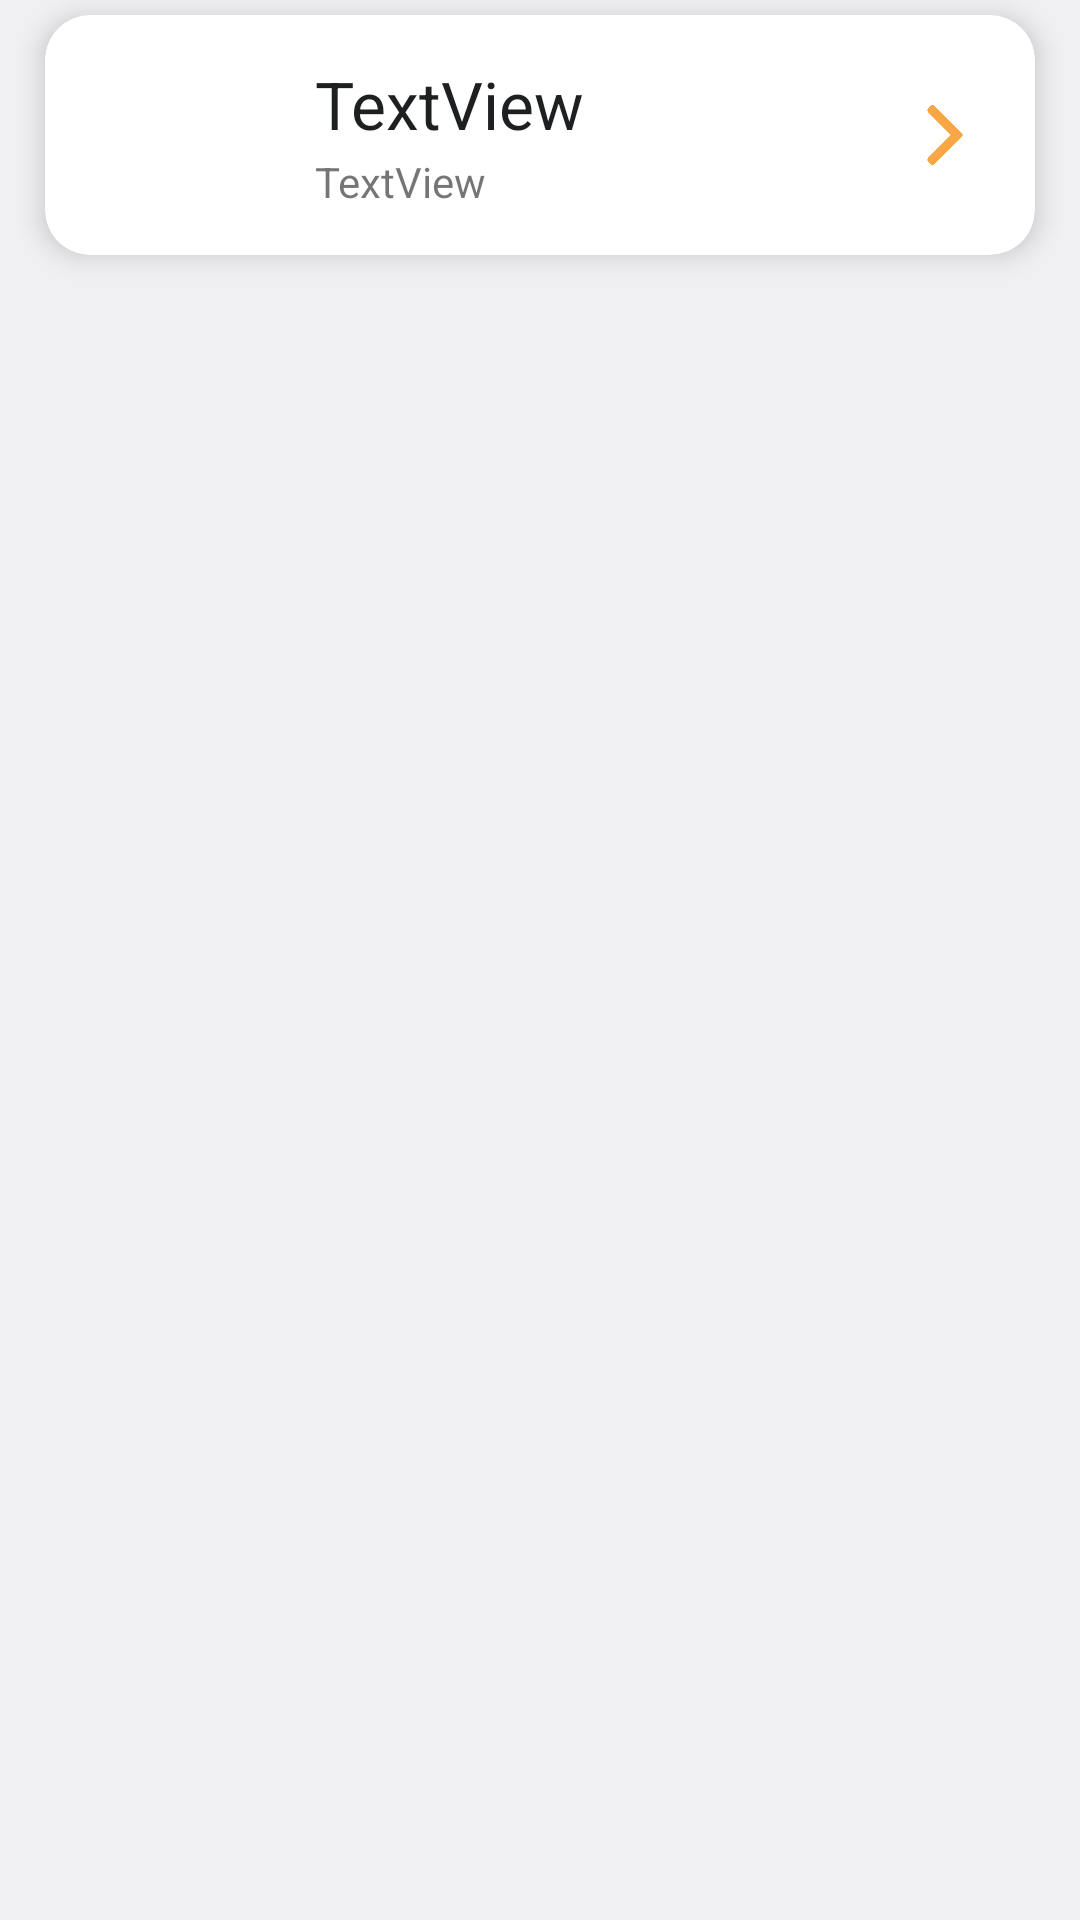

Where icons sit on this 1080px×1920px app screen, as (x1, y1, x2, y2):
enter: (927, 105, 963, 165)
